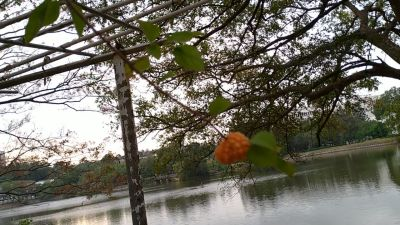eggs: (215, 131, 253, 165)
